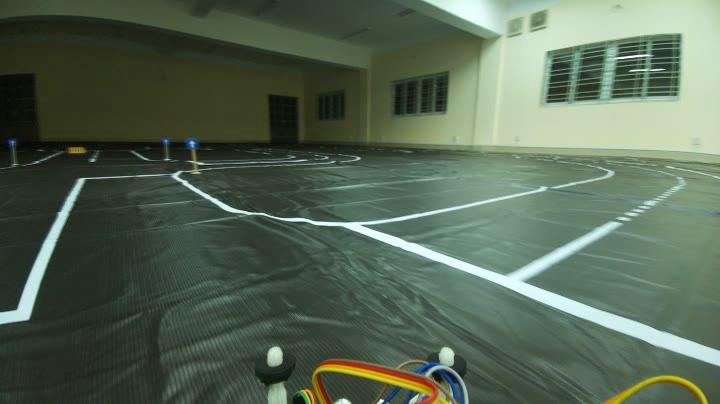onewayroad: (184, 136, 198, 148), (162, 136, 172, 147)
roadblock: (66, 144, 90, 154)
